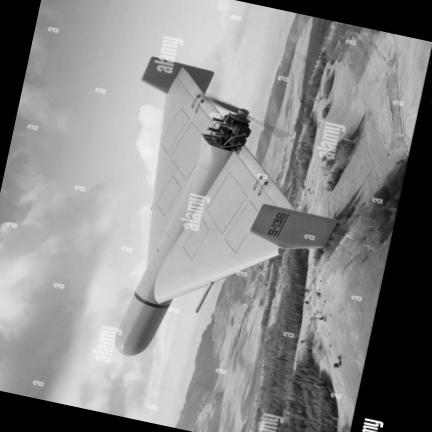Shahed: (116, 56, 336, 355)
